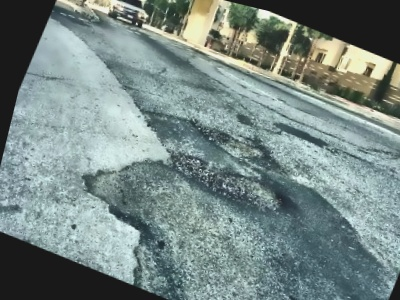pothole: (151, 140, 298, 224), (177, 113, 274, 168)
